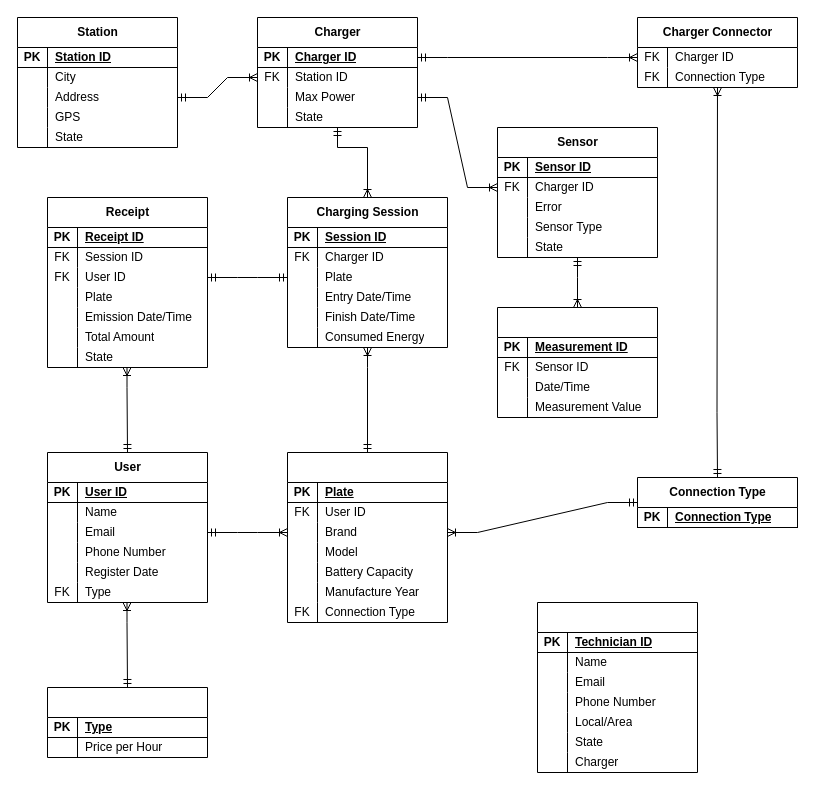
Some shapes in this 815 by 790 pixel diagram are drawn without their labels. The box of each missing label's shape, as (x1, y1, x2, y2) in pixels:
Car: (286, 452, 448, 622)
Pricing: (46, 686, 208, 758)
Sensor Measurement: (496, 306, 658, 418)
Technical Department: (536, 602, 698, 772)
